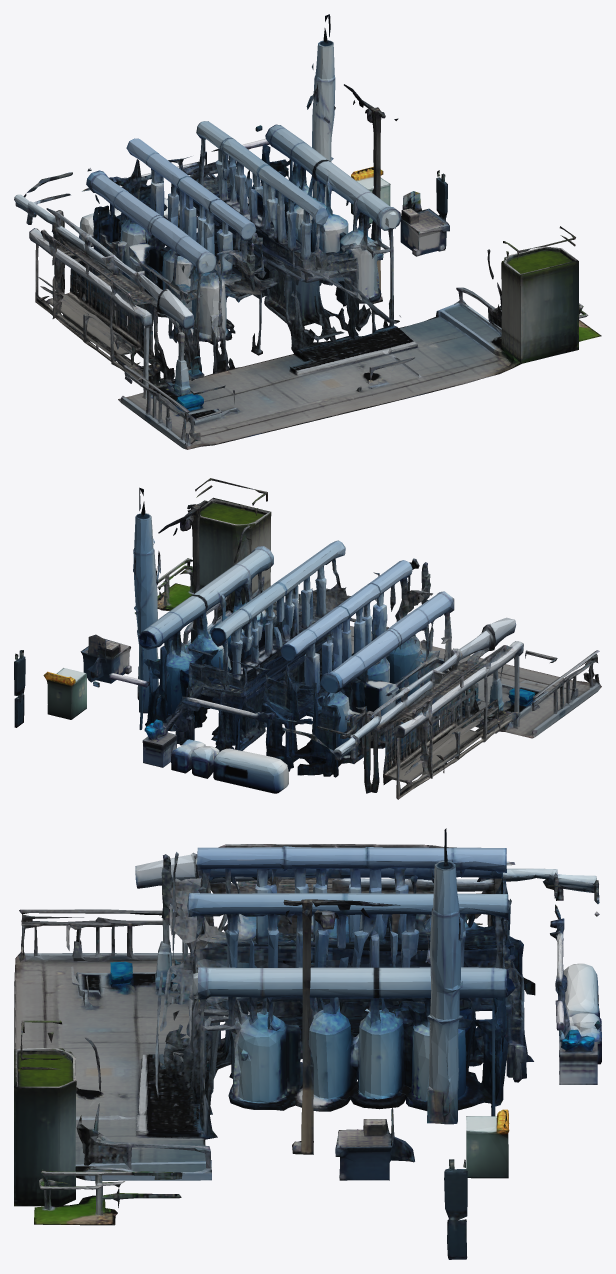
3 renders of one model, top to bottom at view 1: azimuth 30°, elevation 25°; view 2: azimuth 150°, elevation 25°; view 3: azimuth 270°, elevation 25°, orthographic. The views are drawn at different scales.
Parts seen in each view (by area): view 1: world; view 2: world; view 3: world.
Part boxes in pixels (x1,y1,x2,y2): world: (14, 14, 601, 449); world: (14, 478, 601, 799); world: (14, 828, 601, 1259).
Bounding box in the file's own units: 1 × 0.5996 × 0.9047.
Materials: 1 (1 with a texture image).
